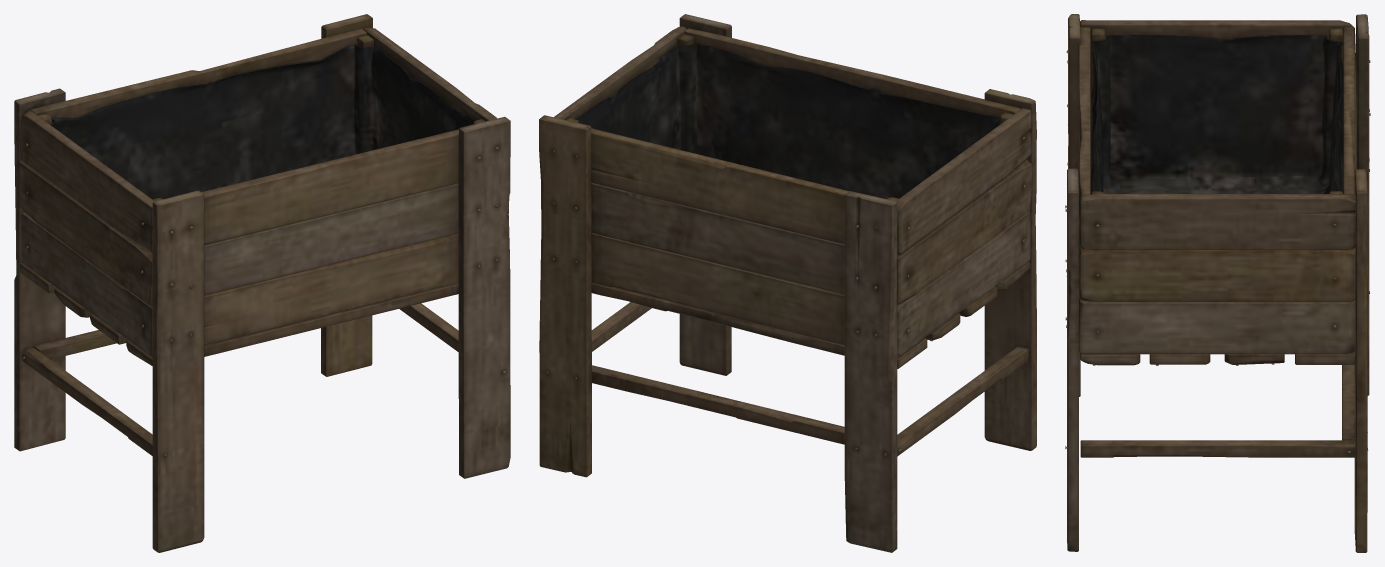
The picture shows the model from 3 angles, left to right: view 1: azimuth 30°, elevation 25°; view 2: azimuth 150°, elevation 25°; view 3: azimuth 270°, elevation 25°; orthographic projection. The views are drawn at different scales.
Visible parts, largest first — view 1: planter_box_03; view 2: planter_box_03; view 3: planter_box_03.
Boxes of the visible parts, left/top/right/bottom form: planter_box_03: left=14, top=14, right=510, bottom=552; planter_box_03: left=539, top=14, right=1036, bottom=552; planter_box_03: left=1065, top=14, right=1370, bottom=552.
Bounding box in the file's own units: 0.9143 × 0.8551 × 0.6555.
Materials: 1 (1 with a texture image).
